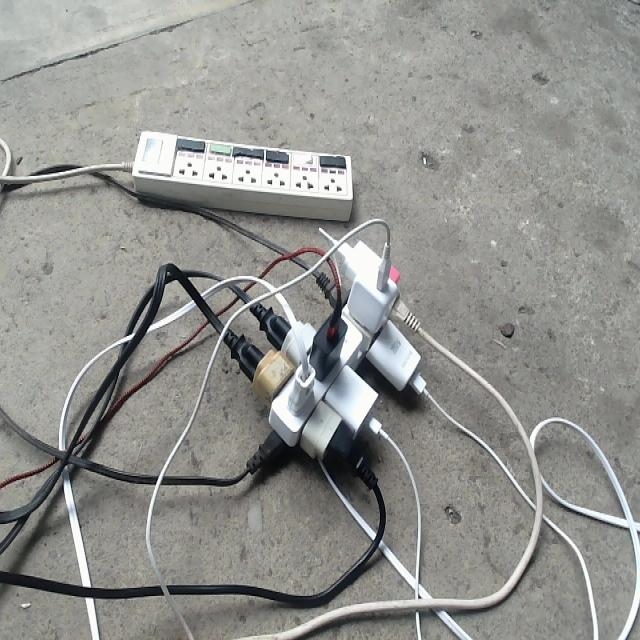-: (219, 217, 439, 488)
